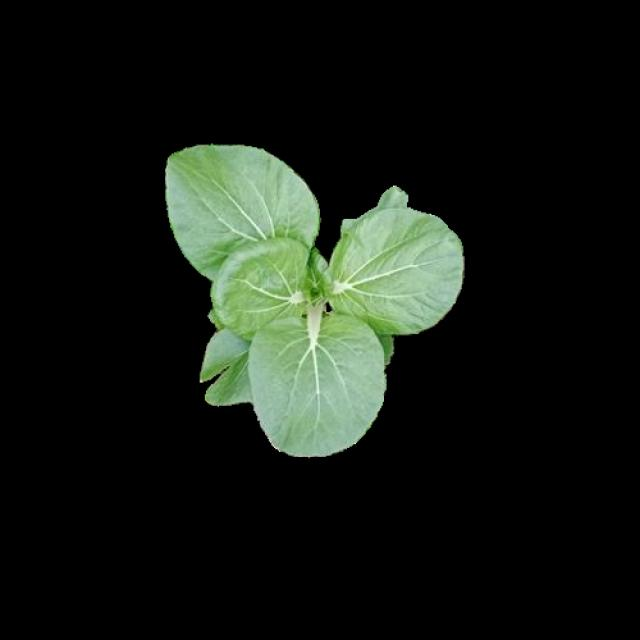healthy: (162, 138, 460, 451)
not-mature: (165, 141, 463, 453)
